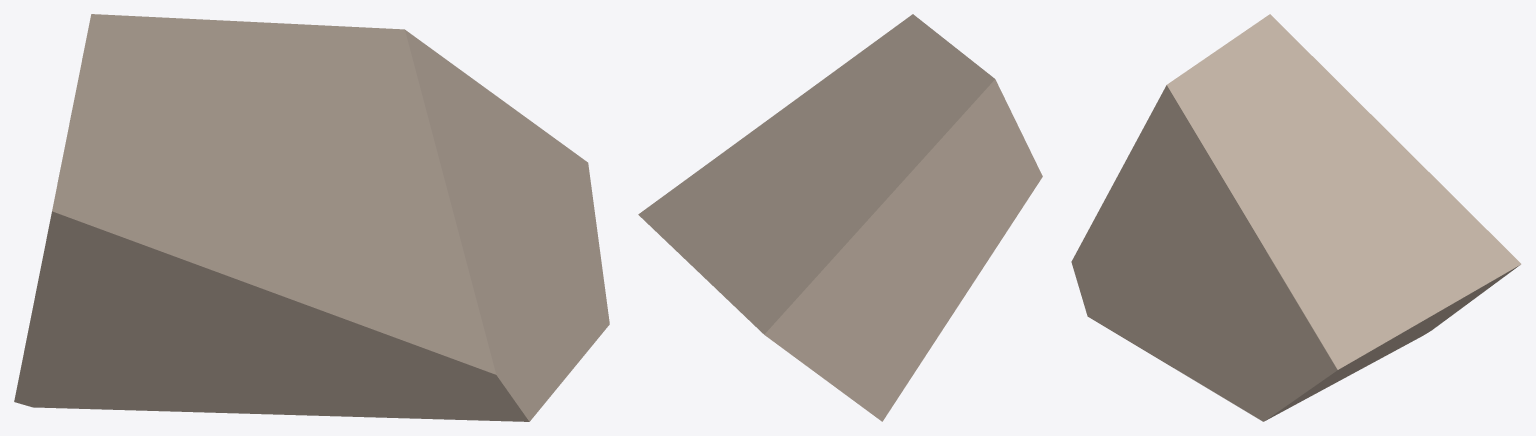
File: ForestRock4.glb
The picture shows the model from 3 angles, left to right: view 1: azimuth 30°, elevation 25°; view 2: azimuth 150°, elevation 25°; view 3: azimuth 270°, elevation 25°; orthographic projection. The views are drawn at different scales.
Parts seen in each view (by area): view 1: JaggedRock4; view 2: JaggedRock4; view 3: JaggedRock4.
Part boxes in pixels (x1=…): JaggedRock4: x1=14, y1=14, x2=609, y2=421; JaggedRock4: x1=638, y1=14, x2=1042, y2=421; JaggedRock4: x1=1071, y1=14, x2=1521, y2=421.
Bounding box in the file's own units: 1.28 × 1 × 1.36.
